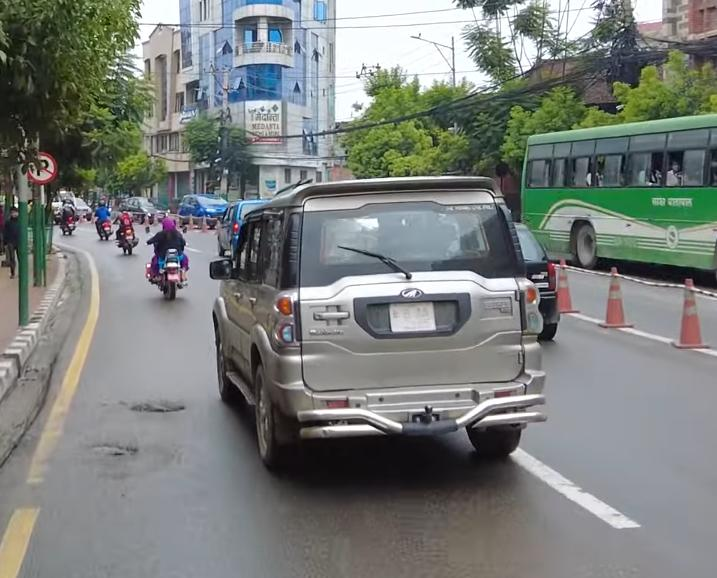SUV: (191, 172, 547, 479)
bike: (145, 244, 189, 303)
bus: (511, 110, 717, 283)
car: (177, 190, 229, 228)
